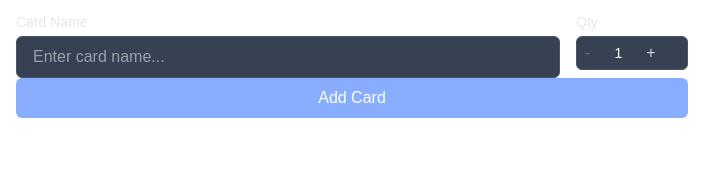
Scenario: CardInput › shows error state when search fails
The image size is (705, 172).
Type "Lightning" into the field labelled "Card Name".
click(288, 57); type("Lightning")  # box [16,36,560,78]
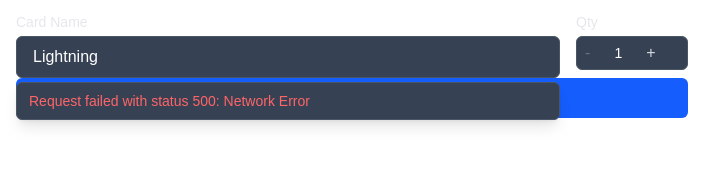
Result: the text "Request failed with status 500: Network Error" is shown at [29,93,310,109]
